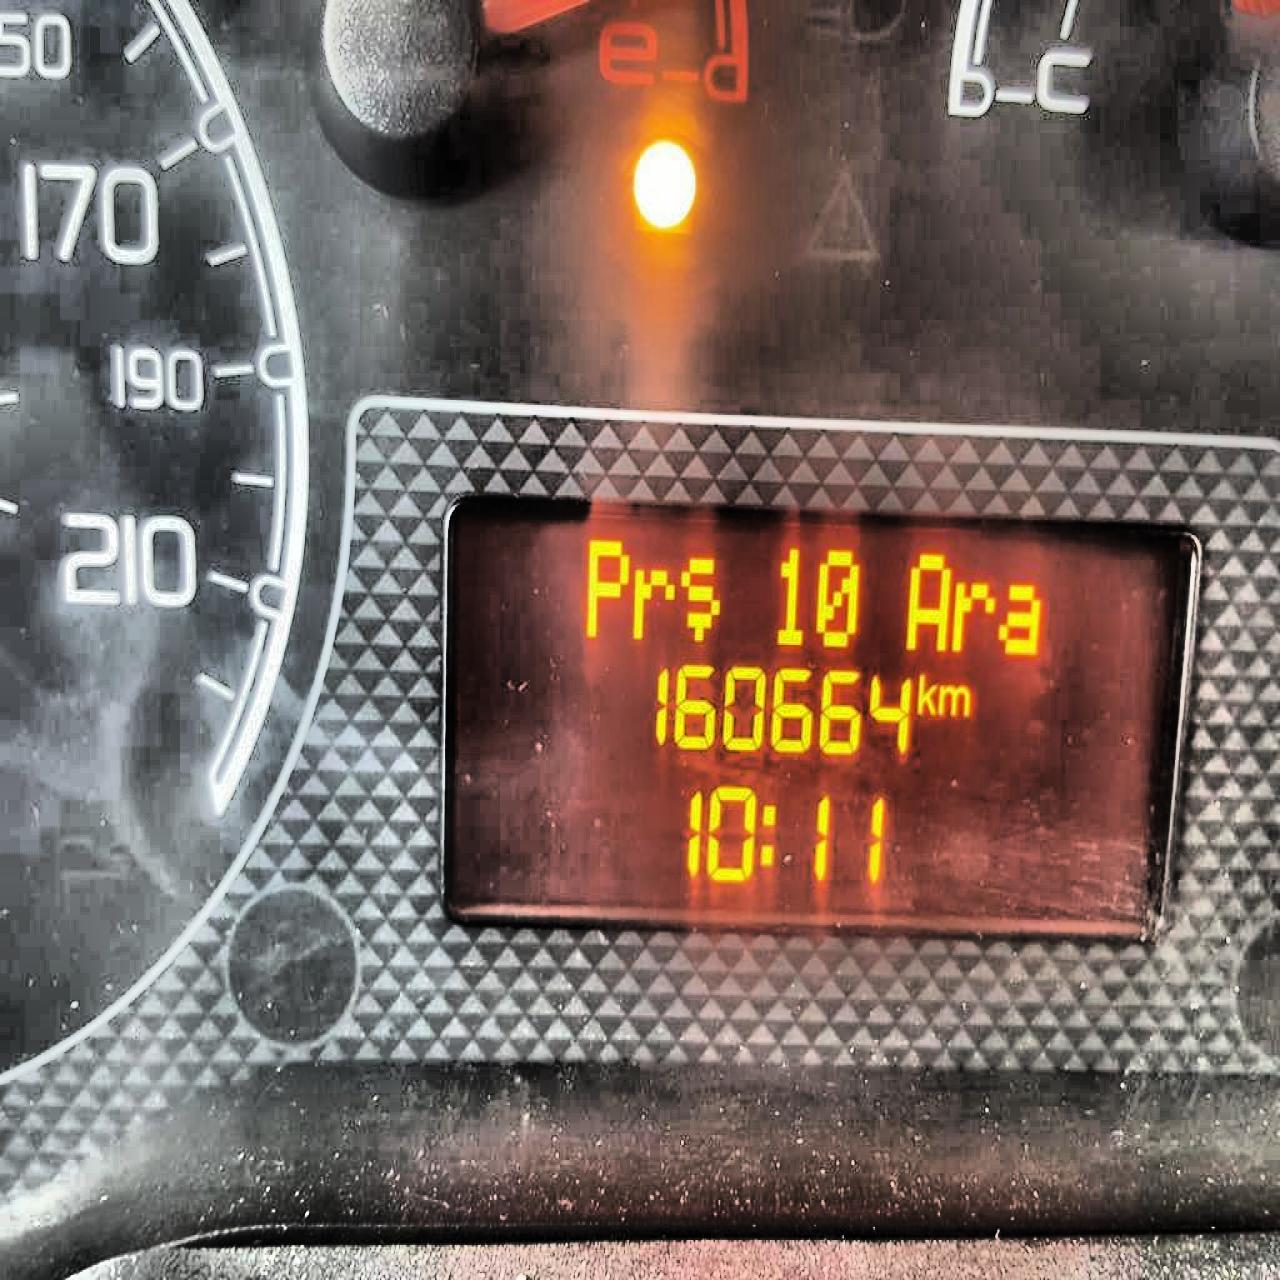0: (813, 542, 862, 651), (704, 782, 755, 885), (719, 662, 768, 755)
1: (769, 537, 806, 651), (859, 784, 891, 888), (803, 787, 832, 884), (675, 783, 701, 884), (647, 659, 673, 749)
4: (865, 669, 913, 758)
6: (815, 663, 864, 758), (768, 661, 812, 756), (673, 659, 717, 751)
X: (578, 529, 632, 641), (901, 545, 949, 655), (678, 546, 723, 647), (996, 577, 1046, 656), (953, 572, 995, 655), (632, 561, 674, 641), (757, 794, 778, 874), (937, 679, 974, 719), (915, 665, 937, 719)
odometer: (436, 492, 1203, 948)
